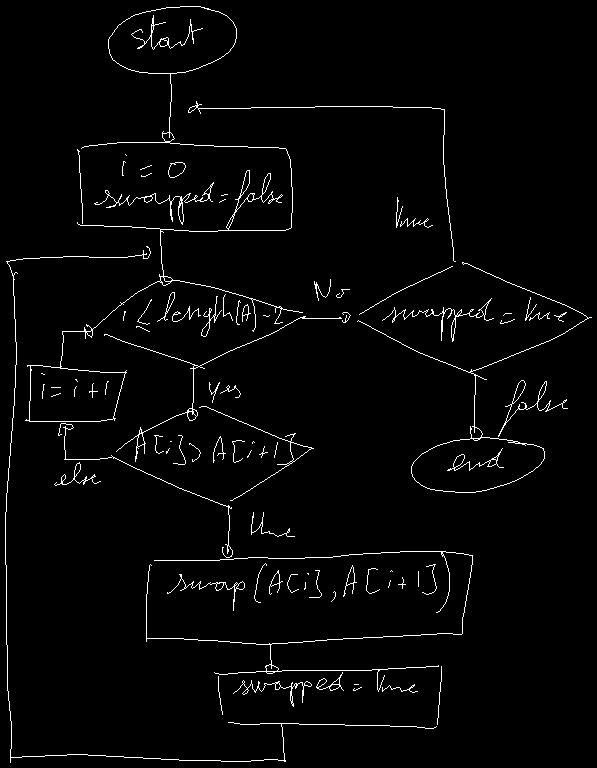arrow: (5, 246, 285, 762), (188, 101, 455, 261), (58, 423, 112, 459), (60, 324, 92, 367), (162, 73, 174, 141), (470, 374, 482, 440), (159, 230, 172, 285), (187, 365, 197, 420), (222, 505, 232, 557), (301, 312, 350, 322), (265, 643, 278, 673)
decision: (357, 262, 591, 379), (113, 406, 313, 508), (90, 280, 305, 368)
process: (146, 551, 472, 644), (77, 142, 292, 231), (214, 665, 441, 728), (25, 365, 126, 421)
terminator: (108, 6, 236, 73), (411, 437, 544, 492)
text: (167, 552, 449, 612), (94, 154, 282, 229), (382, 297, 566, 341), (120, 292, 282, 336), (233, 669, 417, 706), (135, 427, 295, 464), (498, 380, 567, 436), (131, 15, 202, 49), (41, 373, 108, 398), (447, 448, 503, 470), (396, 197, 432, 227), (54, 462, 100, 485), (251, 512, 294, 536), (314, 279, 349, 300), (209, 382, 240, 402)
